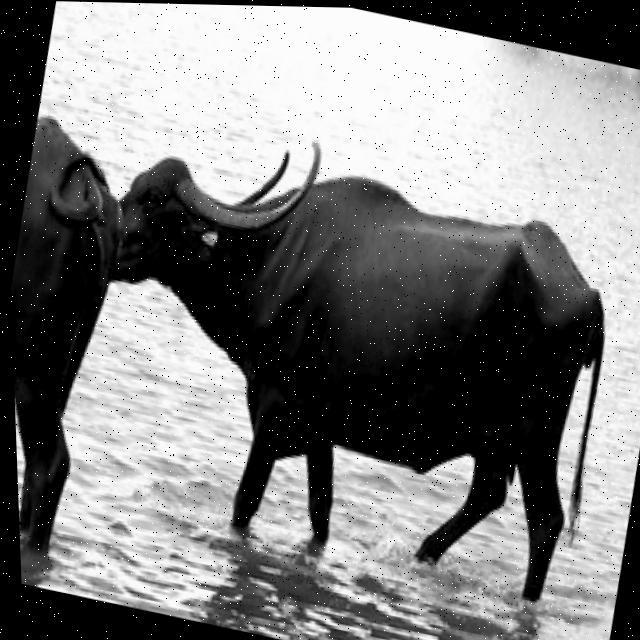Buffalo: (53, 98, 640, 619)
